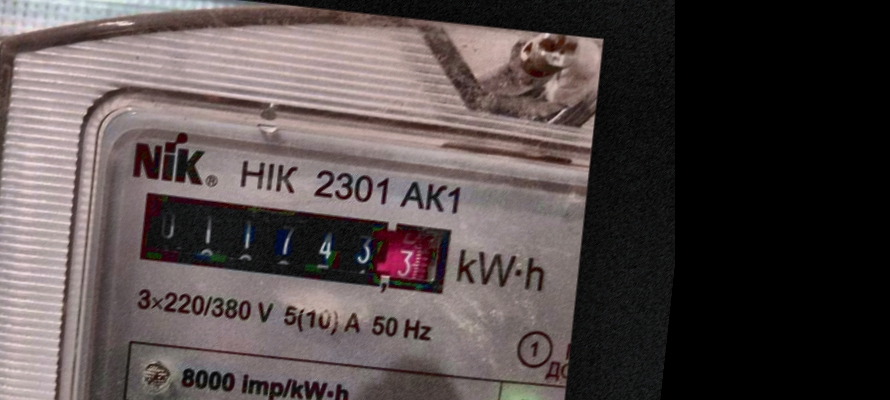0: (155, 205, 177, 243)
1: (237, 215, 256, 250), (201, 211, 214, 245)
3: (350, 230, 373, 267), (393, 247, 414, 282)
4: (314, 226, 334, 262)
7: (275, 221, 296, 257)
screen: (122, 179, 464, 308)
